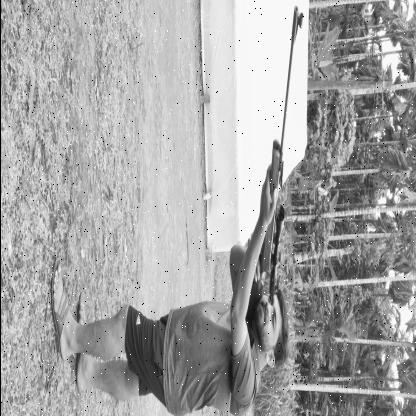rifle: (242, 4, 303, 322)
